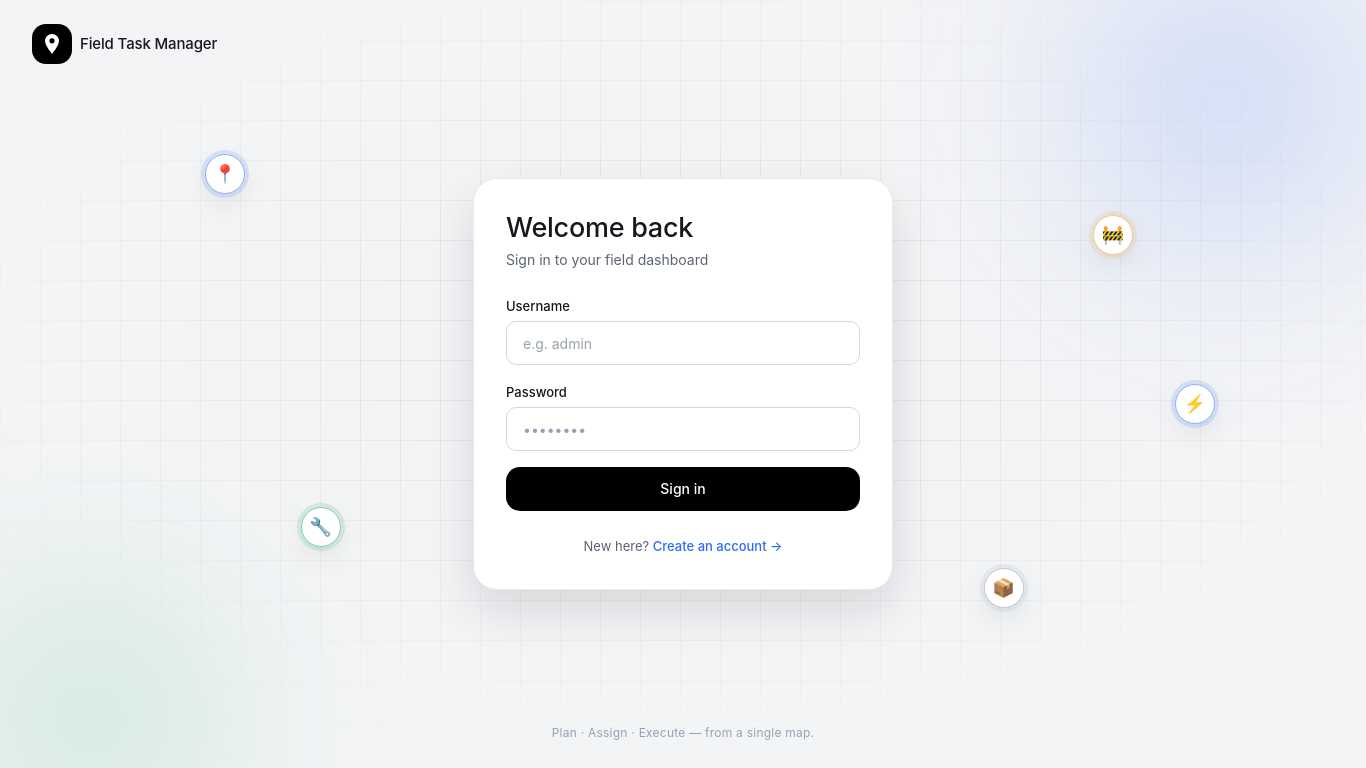
LoginComponent › shows the bad-credentials error on a 401
Type "alice" into the field with id "login-username" at (683, 343), box [506,321,860,365]
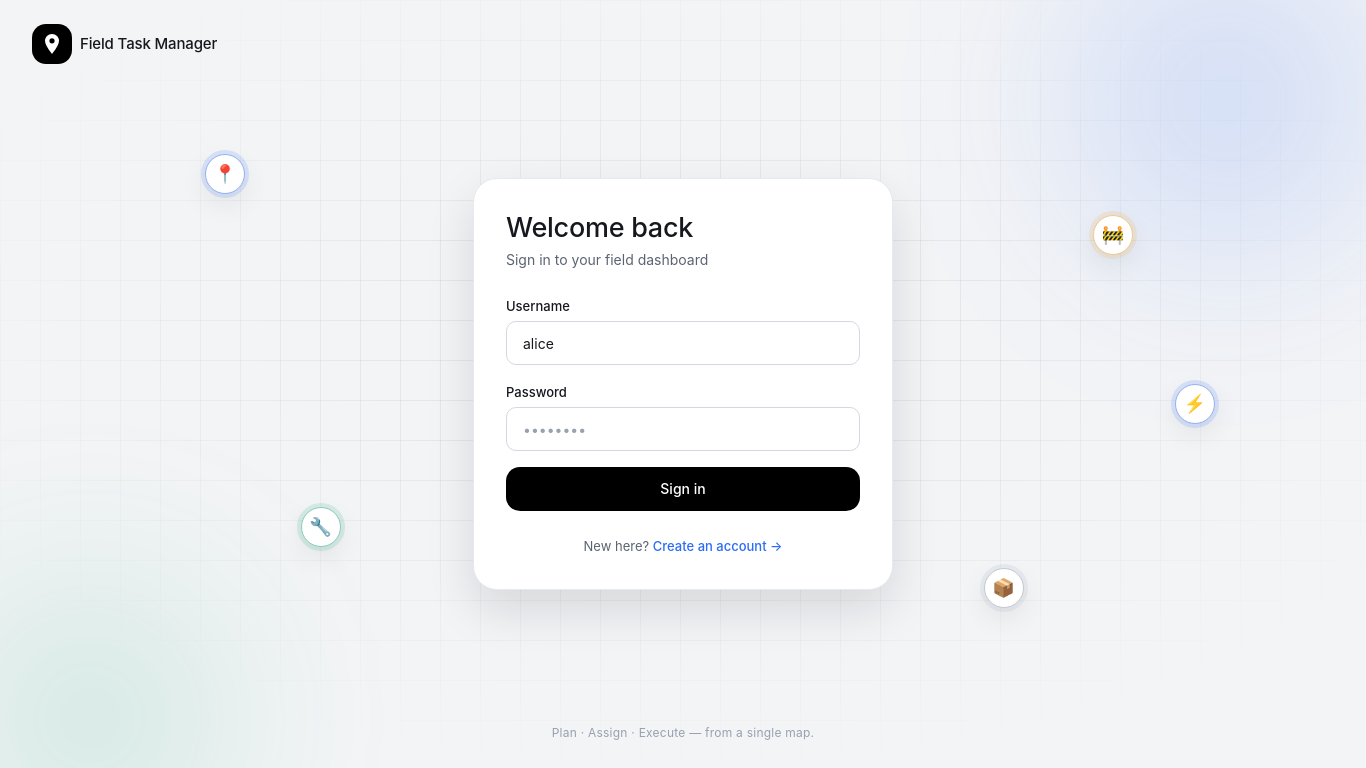
Type "wrong" into the password field with id "login-password" at (683, 429), box [506,407,860,451]
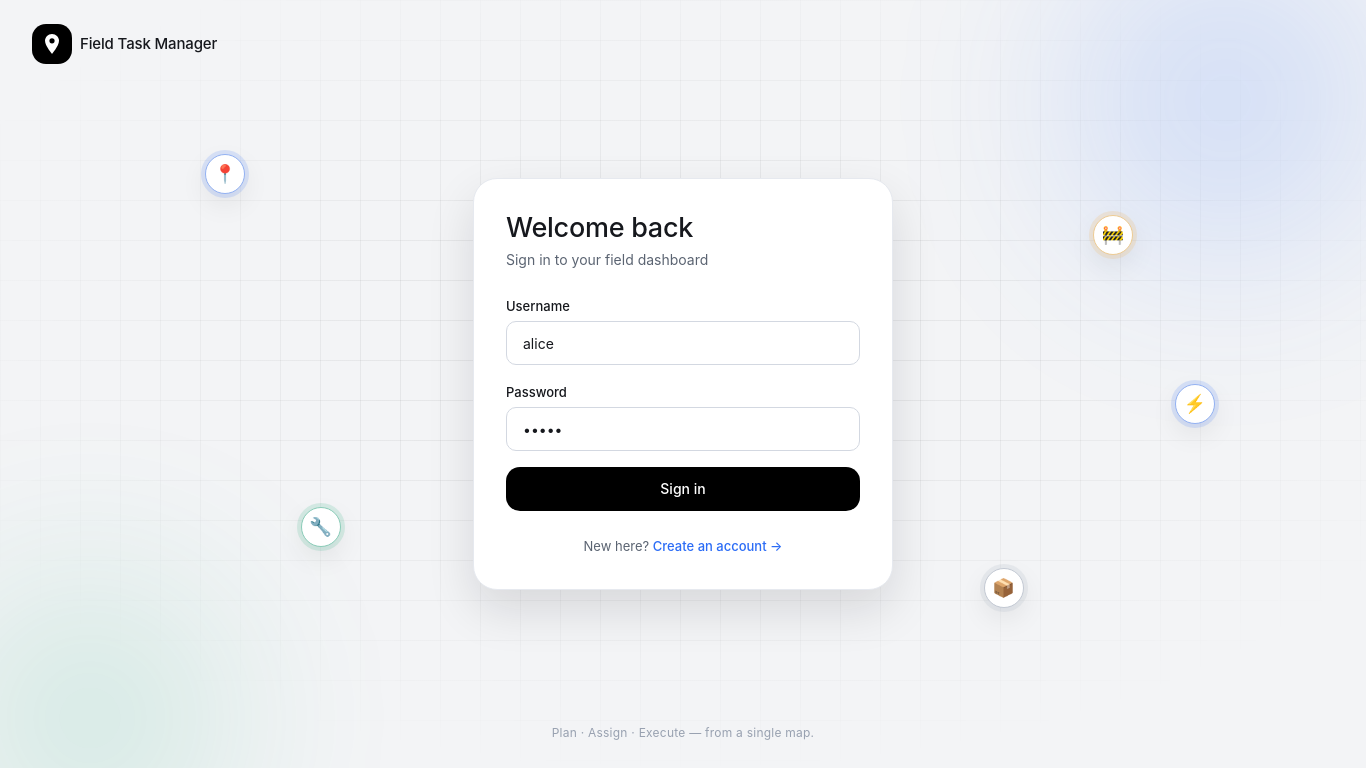
Submit the form, box [506,295,860,511]
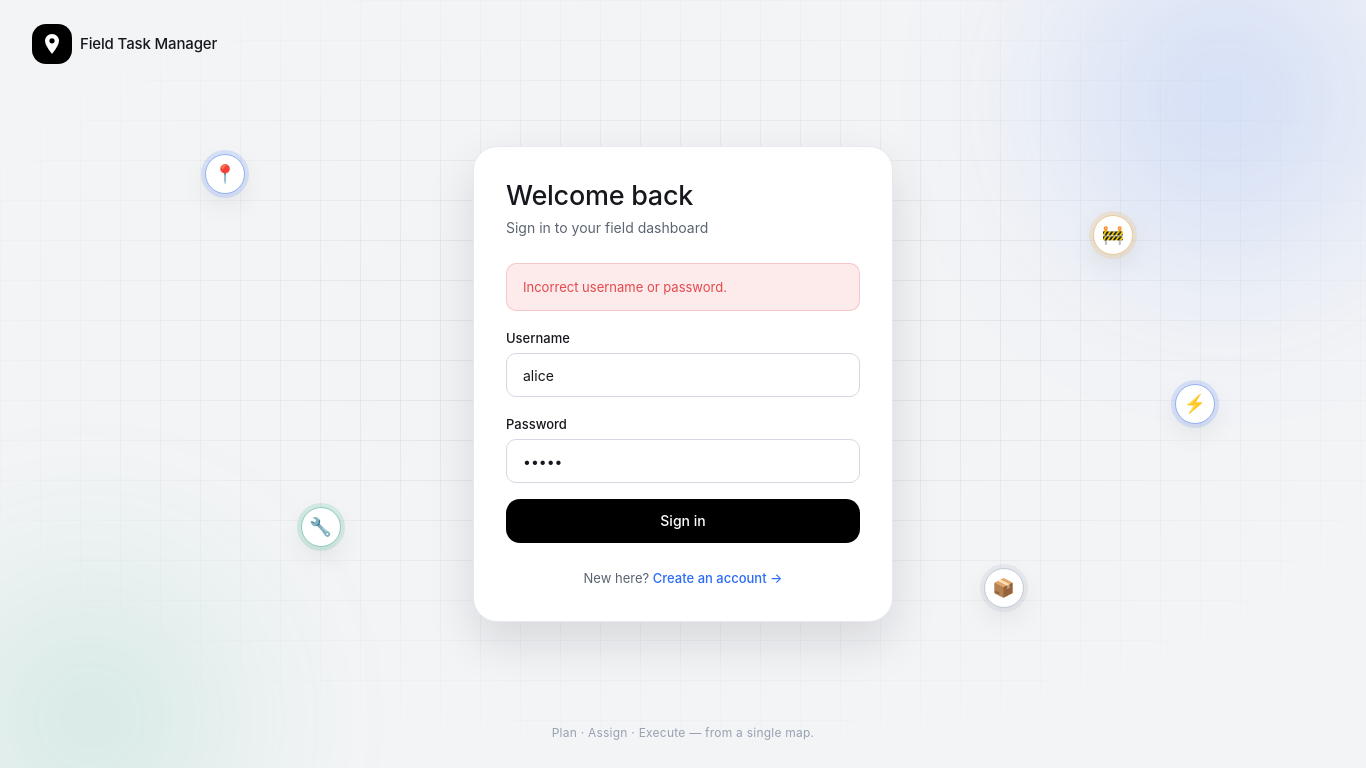
Expected: the message with class "alert--error" reads "Incorrect username or password.", [523,279,727,295]
